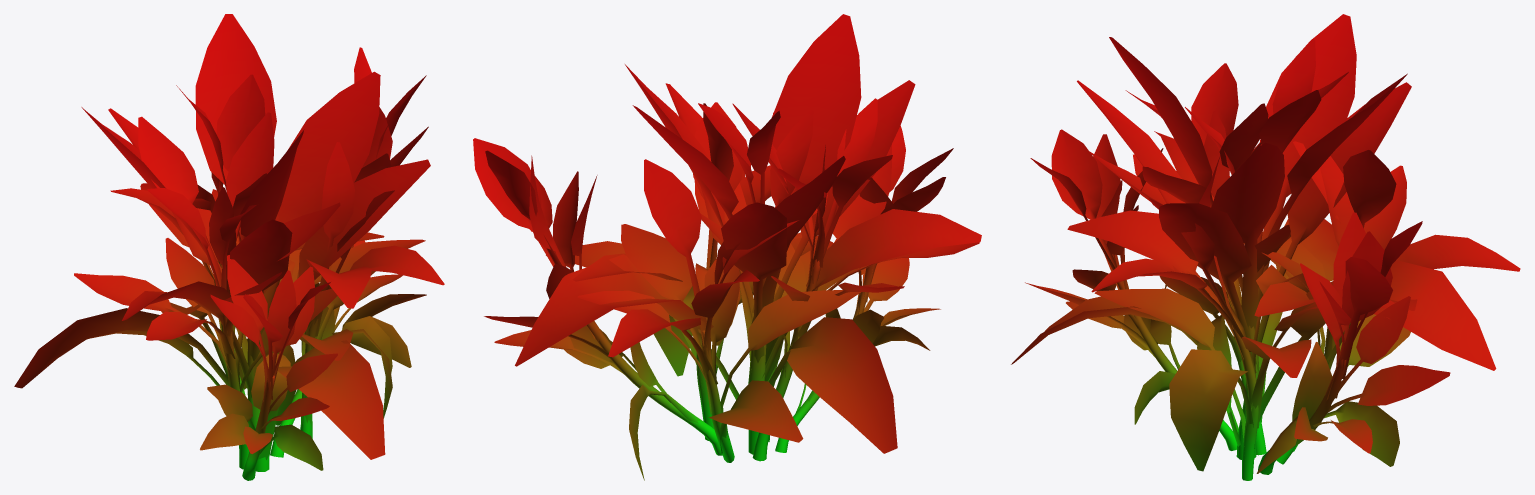
File: Spotted Dumbcane_LOD1_Var5_sjBmG.fbx
3 views of the same model, side by side, from view 1: azimuth 30°, elevation 25°; view 2: azimuth 150°, elevation 25°; view 3: azimuth 270°, elevation 25° (orthographic). The views are drawn at different scales.
Visible parts, largest first — view 1: _7e00_Var5_LOD1; view 2: _7e00_Var5_LOD1; view 3: _7e00_Var5_LOD1.
Boxes of the visible parts, bbox=[...] form: _7e00_Var5_LOD1: bbox=[14, 14, 444, 480]; _7e00_Var5_LOD1: bbox=[473, 14, 981, 480]; _7e00_Var5_LOD1: bbox=[1011, 14, 1520, 480].
Size of the model in its own units: 63.39 by 57.26 by 64.3.
